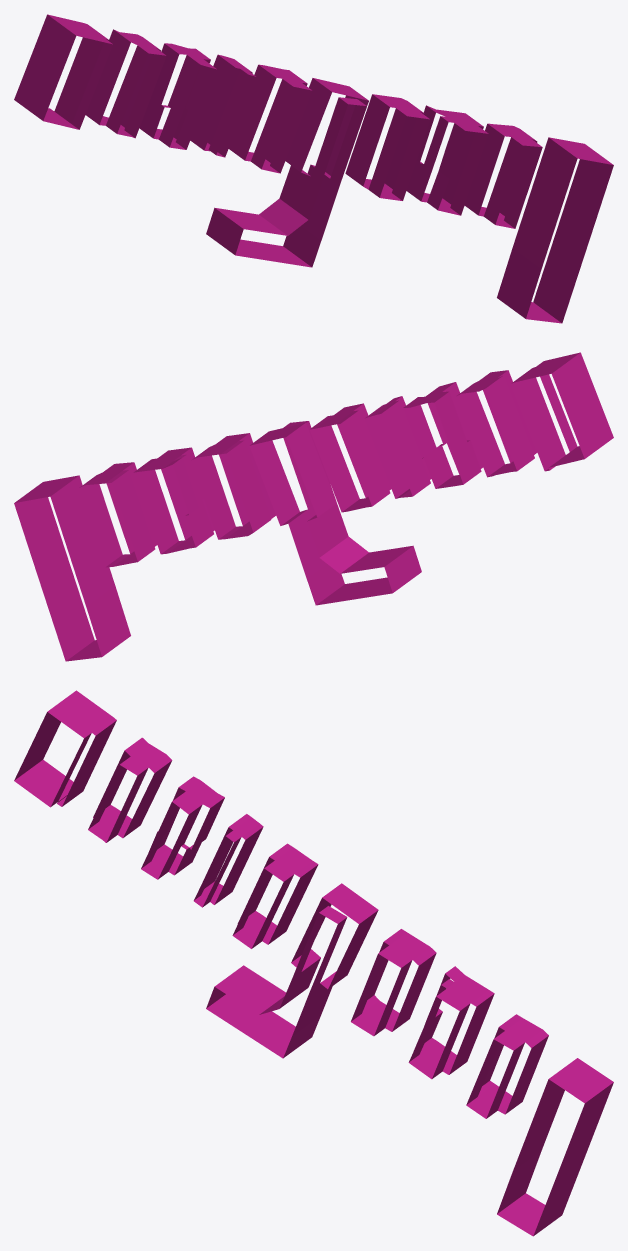
File: Wall_Hini_0.0_Slope_3.0.obj
The picture shows the model from 3 angles, top to bottom: view 1: azimuth 30°, elevation 25°; view 2: azimuth 150°, elevation 25°; view 3: azimuth 330°, elevation 25°; orthographic projection.
Parts seen in each view (by area): view 1: 1, 6, 2, 4, 8, 5, 3, 10, 9, 7; view 2: 6, 1, 2, 4, 5, 8, 10, 3, 9, 7; view 3: 6, 1, 2, 5, 4, 3, 8, 10, 9, 7.
Part boxes in pixels (x1=…): 1: x1=497, y1=137, x2=613, y2=323; 6: x1=206, y1=78, x2=368, y2=267; 2: x1=14, y1=14, x2=113, y2=129; 4: x1=345, y1=94, x2=430, y2=200; 8: x1=228, y1=64, x2=312, y2=173; 5: x1=406, y1=105, x2=488, y2=215; 3: x1=464, y1=123, x2=542, y2=228; 10: x1=85, y1=29, x2=166, y2=138; 9: x1=139, y1=43, x2=217, y2=149; 7: x1=190, y1=54, x2=256, y2=157; 6: x1=249, y1=421, x2=421, y2=605; 1: x1=14, y1=475, x2=130, y2=661; 2: x1=511, y1=352, x2=613, y2=471; 4: x1=191, y1=433, x2=275, y2=539; 5: x1=133, y1=447, x2=214, y2=554; 8: x1=309, y1=403, x2=391, y2=512; 10: x1=456, y1=370, x2=537, y2=477; 3: x1=79, y1=462, x2=157, y2=567; 9: x1=403, y1=382, x2=482, y2=488; 7: x1=364, y1=396, x2=431, y2=498; 6: x1=206, y1=883, x2=378, y2=1058; 1: x1=497, y1=1058, x2=613, y2=1236; 2: x1=14, y1=690, x2=116, y2=807; 5: x1=408, y1=966, x2=494, y2=1079; 4: x1=351, y1=929, x2=436, y2=1036; 3: x1=466, y1=1014, x2=548, y2=1118; 8: x1=232, y1=843, x2=318, y2=948; 10: x1=88, y1=737, x2=172, y2=842; 9: x1=141, y1=776, x2=224, y2=879; 7: x1=193, y1=814, x2=263, y2=907.
Size of the model in its own units: 135 by 92 by 11.99.
